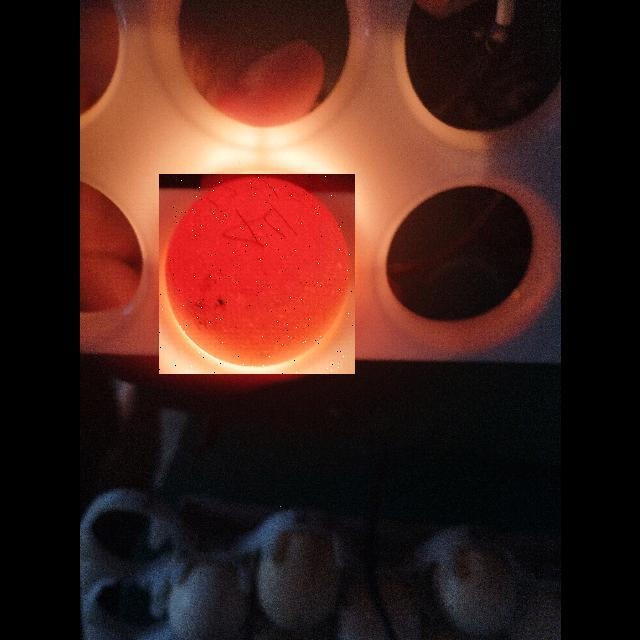A - Good: (159, 174, 355, 374)
